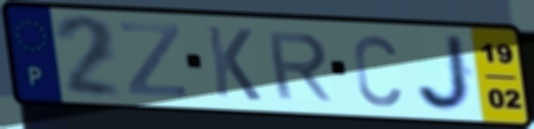2: (52, 13, 127, 100)
C: (350, 31, 404, 109)
J: (413, 33, 478, 114)
K: (203, 23, 264, 104)
R: (264, 30, 336, 104)
Z: (118, 19, 190, 100)
